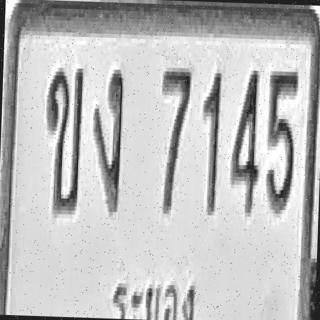A02: (43, 63, 84, 214)
A07: (90, 65, 124, 212)
N01: (199, 68, 222, 215)
N04: (229, 66, 260, 213)
N05: (265, 67, 298, 214)
N07: (158, 63, 191, 214)
P53: (108, 269, 200, 320)
